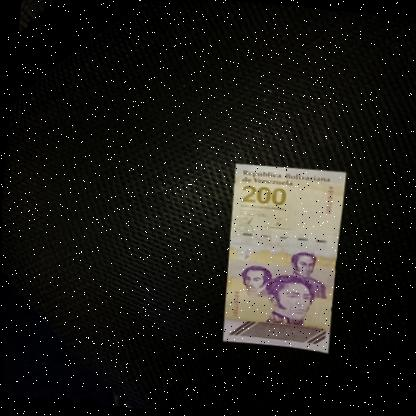two_hundred-front-vef: (216, 160, 347, 354)
